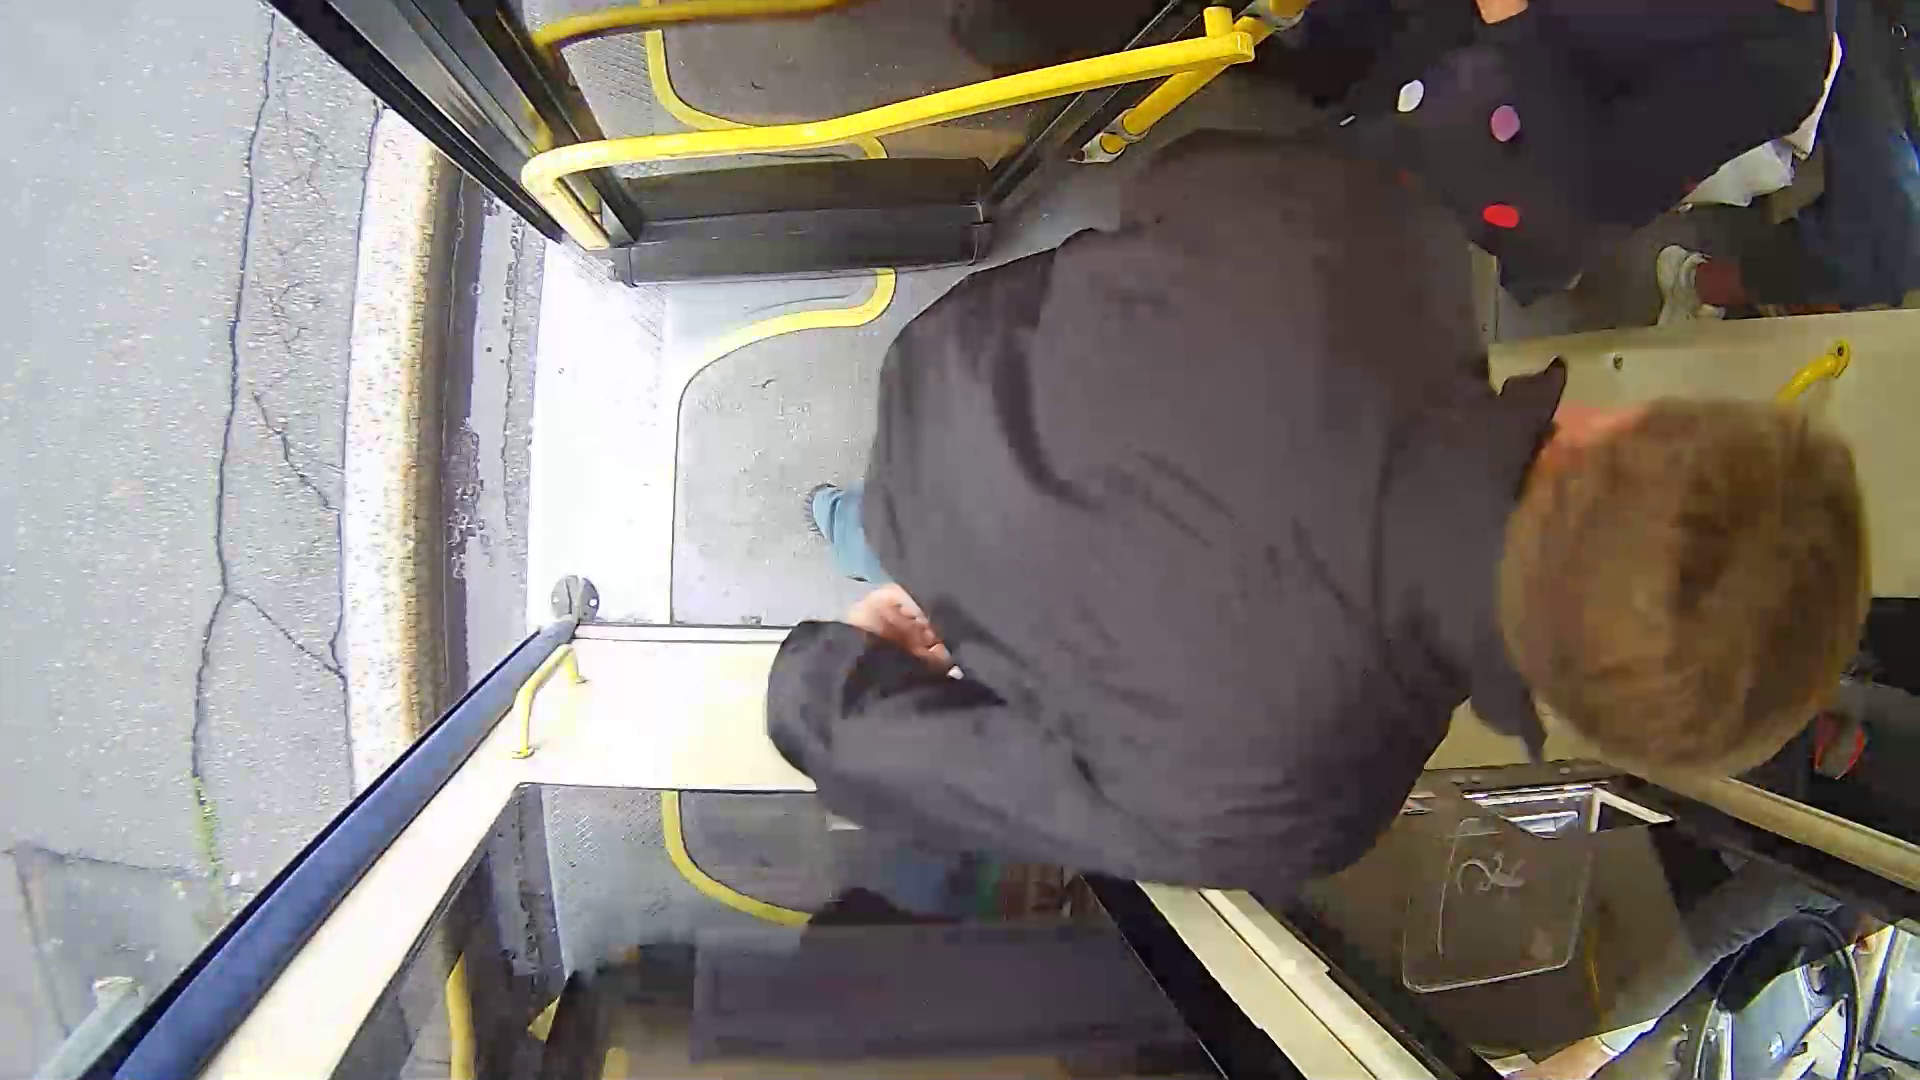person: (760, 151, 1870, 858)
